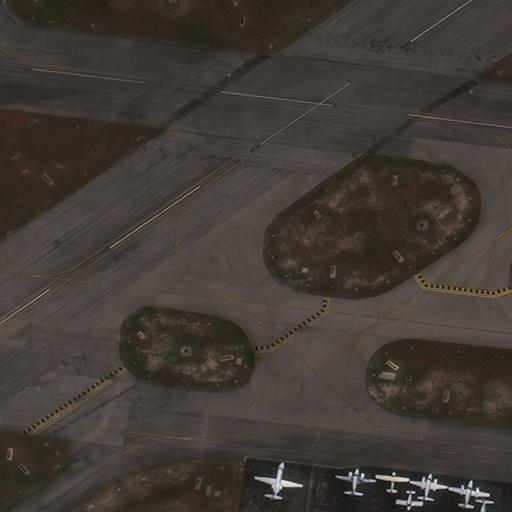Medium Civil Transport: (253, 461, 303, 501)
Small Civil Transport: (448, 478, 490, 508), (335, 467, 375, 496), (409, 473, 447, 501), (375, 470, 409, 493), (395, 489, 424, 510), (467, 499, 495, 511)
